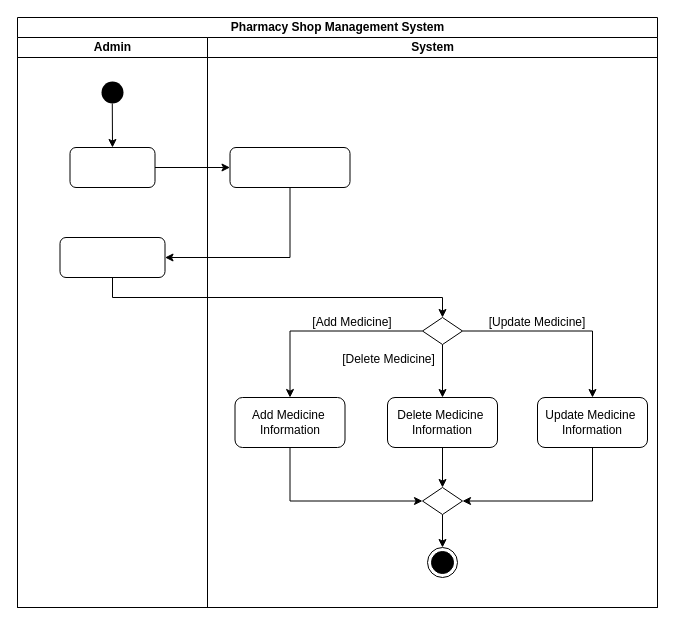
Some shapes in this 675 by 625 pixel diagram are drawn without their labels. The shapes that lost their labels are listed below. From the top down, each one's centre as x and y in pixels, then its label:
(112,167): Click Medicine Button
(289,167): Display Medicine information & options
(112,257): select option
